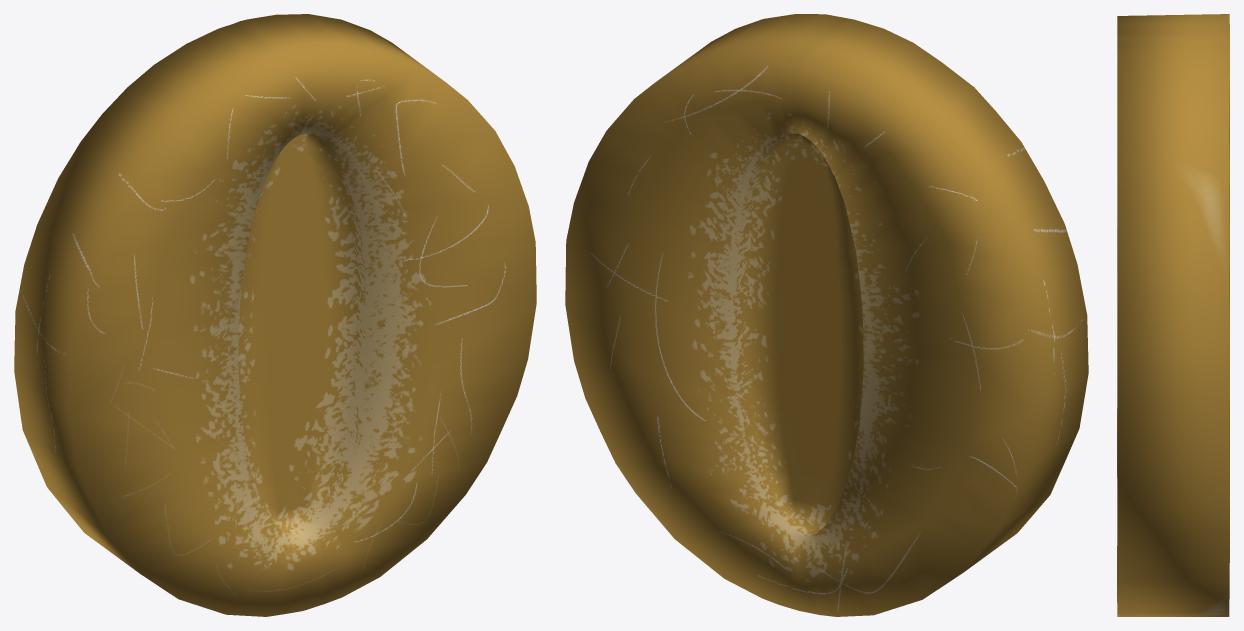
Rendered from Coin.glb.
3 views of the same model, side by side, from view 1: azimuth 30°, elevation 25°; view 2: azimuth 150°, elevation 25°; view 3: azimuth 270°, elevation 25° (orthographic).
Visible parts, largest first — view 1: Coin; view 2: Coin; view 3: Coin.
Boxes of the visible parts, bbox=[...] form: Coin: bbox=[14, 14, 536, 616]; Coin: bbox=[565, 14, 1088, 616]; Coin: bbox=[1117, 14, 1229, 616].
Bounding box in the file's own units: 0.9959 × 1.12 × 0.2059.
Materials: 1 (1 with a texture image).
